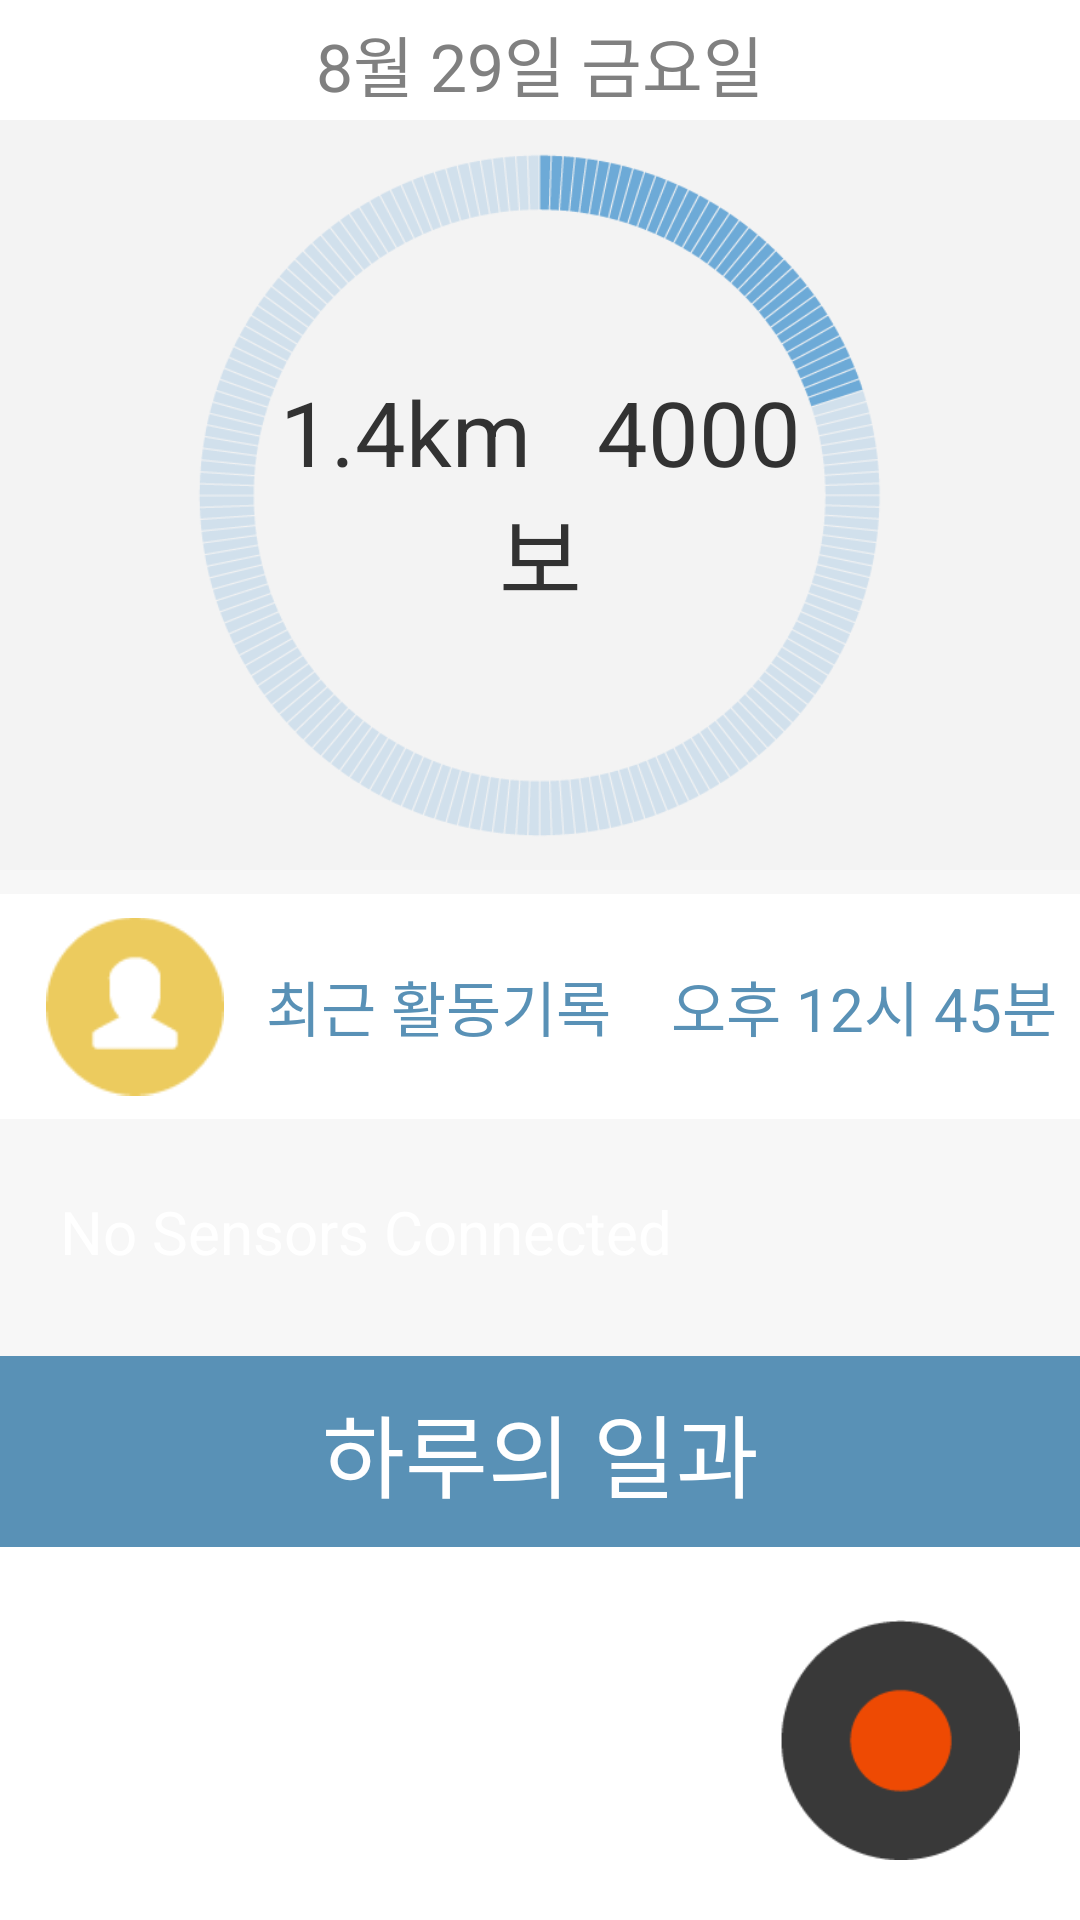

Screen size 1080w x 1920h. Icon name, then its center in pixels as point (x, y):
quick record: point (900, 1740)
